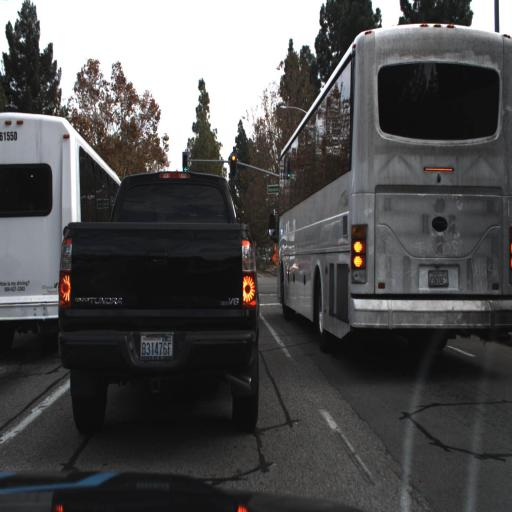car: (52, 172, 257, 432)
trafficLight: (229, 154, 237, 175), (181, 150, 188, 172)
trafficLight-Red: (228, 151, 237, 175)
truck: (275, 22, 511, 358), (0, 111, 113, 357)
